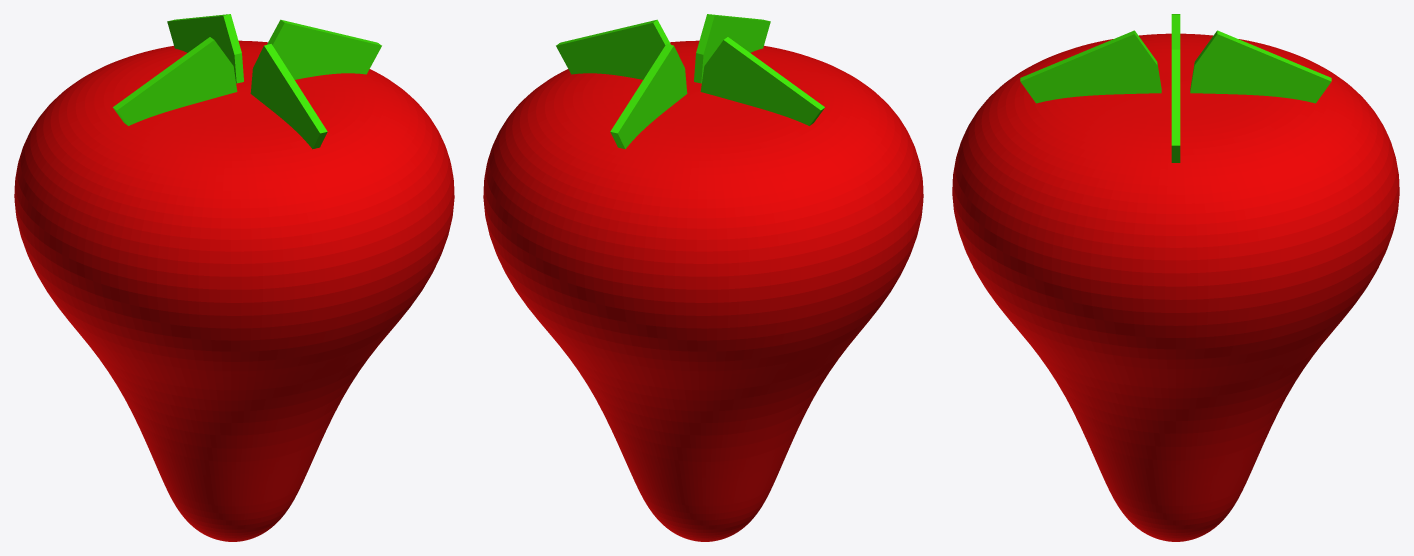
The model's file is Berry.fbx.
The picture shows the model from 3 angles, left to right: view 1: azimuth 30°, elevation 25°; view 2: azimuth 150°, elevation 25°; view 3: azimuth 270°, elevation 25°; orthographic projection.
Parts seen in each view (by area): view 1: Berry; view 2: Berry; view 3: Berry.
Part boxes in pixels (bbox=[...]): Berry: bbox=[14, 14, 454, 541]; Berry: bbox=[483, 14, 923, 541]; Berry: bbox=[952, 14, 1399, 541].
Size of the model in its own units: 215 by 271 by 215.
